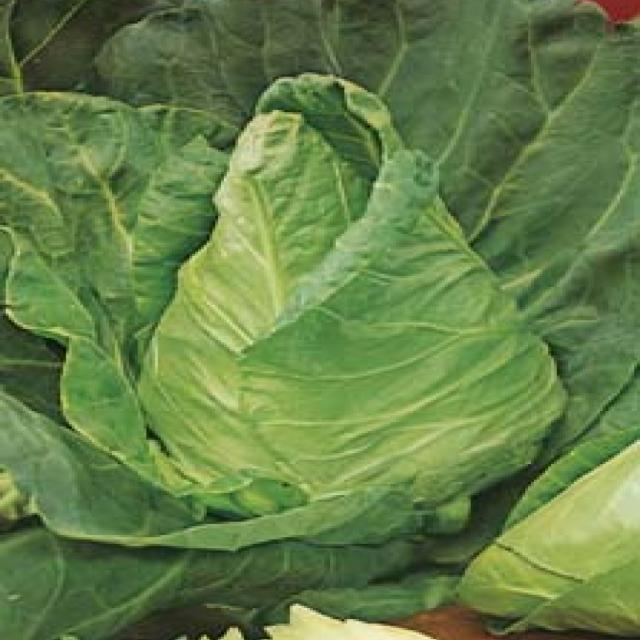Cabbage head: (0, 3, 640, 640)
